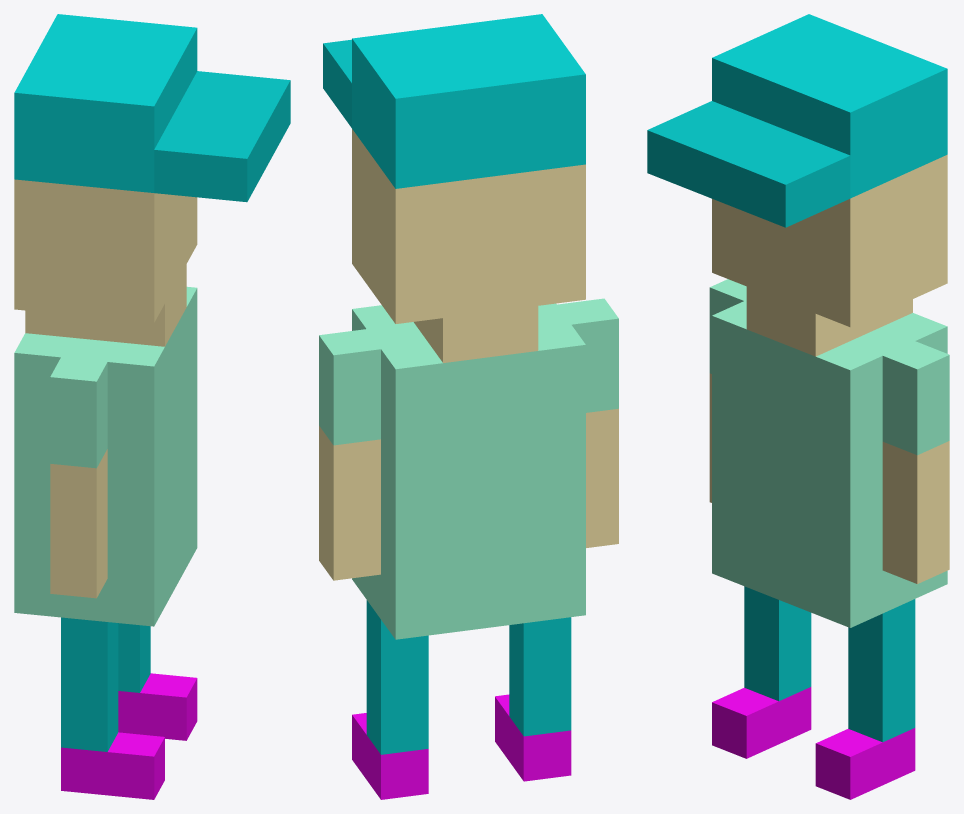
The model's file is pixel_person.glb.
3 views of the same model, side by side, from view 1: azimuth 30°, elevation 25°; view 2: azimuth 150°, elevation 25°; view 3: azimuth 270°, elevation 25° (orthographic). The views are drawn at different scales.
Parts seen in each view (by area): view 1: Object_4, Object_5, Object_6, Object_3, Object_2, Object_7, Object_8; view 2: Object_4, Object_5, Object_6, Object_3, Object_8, Object_2, Object_7; view 3: Object_4, Object_5, Object_6, Object_3, Object_8, Object_7, Object_2.
Boxes of the visible parts, box(x1,y1,x2,y2) form: Object_4: box(14, 286, 197, 626); Object_5: box(14, 179, 197, 598); Object_6: box(14, 14, 197, 192); Object_3: box(61, 71, 290, 751); Object_2: box(61, 732, 164, 799); Object_7: box(118, 673, 197, 740); Object_8: box(118, 623, 150, 692); Object_4: box(319, 298, 618, 639); Object_5: box(319, 129, 618, 580); Object_6: box(352, 14, 585, 188); Object_3: box(323, 39, 571, 736); Object_8: box(366, 600, 428, 754); Object_2: box(495, 694, 571, 781); Object_7: box(352, 713, 428, 799); Object_4: box(709, 279, 949, 627); Object_5: box(709, 154, 949, 583); Object_6: box(712, 14, 947, 198); Object_3: box(647, 101, 850, 701); Object_8: box(848, 599, 915, 742); Object_7: box(815, 728, 915, 799); Object_2: box(712, 687, 811, 758).
Size of the model in its own units: 9.58 by 24 by 9.58.
